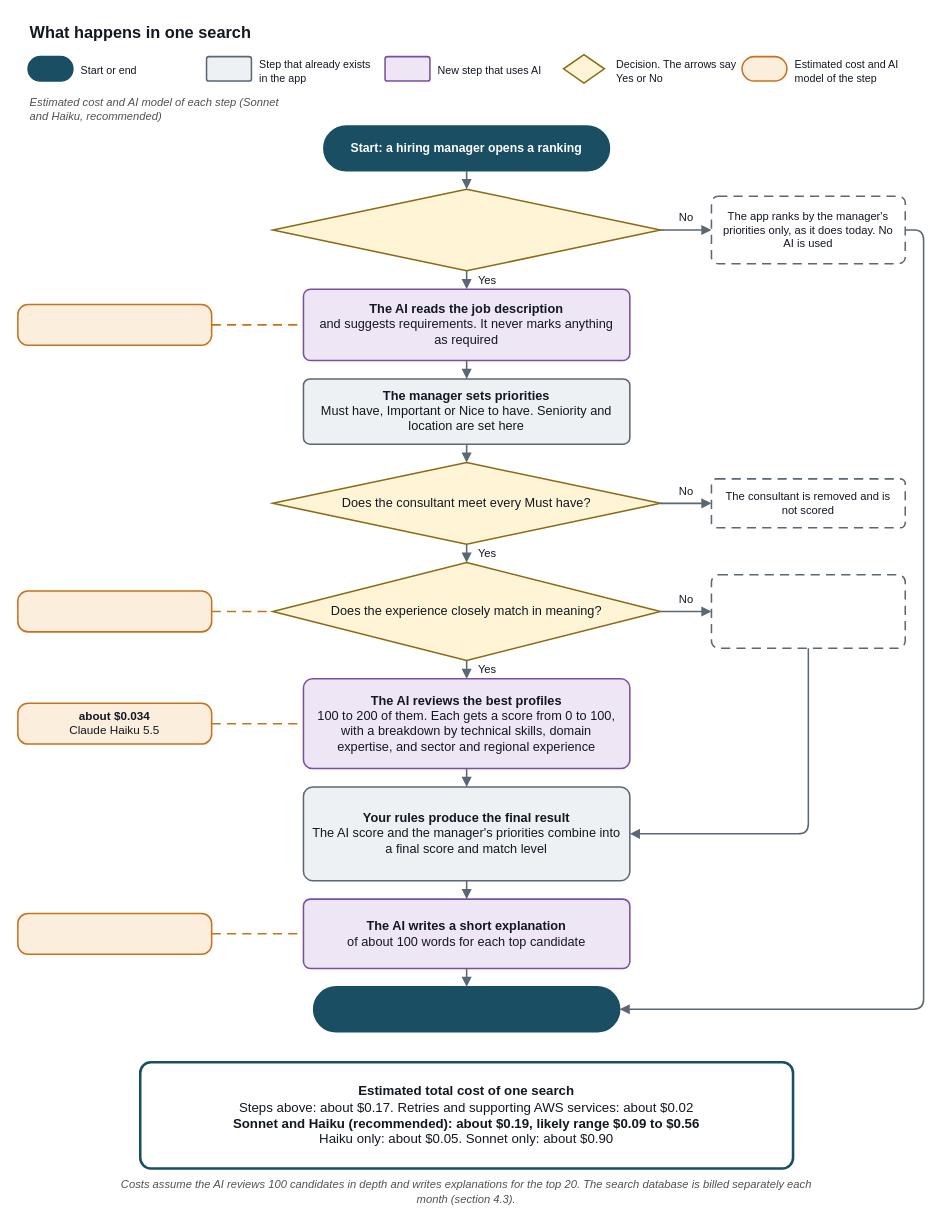
Some shapes in this 951 by 1226 pixel diagram are drawn without their labels. The box of each missing label's shape, as (x1, y1, x2, y2) in pixels:
about $0 Titan V2 and search database: (17, 590, 212, 632)
about $0.024 Claude Sonnet 5.5: (17, 303, 212, 346)
about $0.11 Claude Sonnet 5.5: (17, 912, 212, 955)
End: the ranked list is shown, with scores and explanations: (312, 986, 620, 1032)
Is a job description pasted?: (272, 188, 661, 271)
The consultant gets a basic score and appears lower in the list, with a note: (710, 574, 906, 649)
